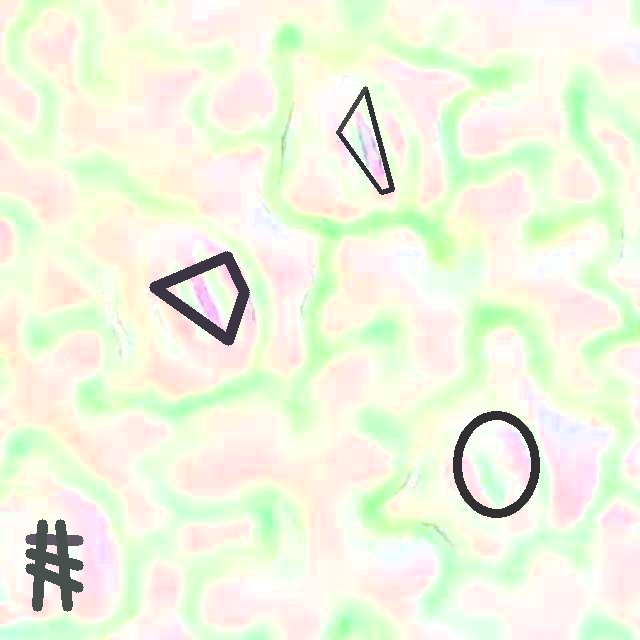close: (452, 409, 541, 519), (25, 520, 83, 610)
open: (150, 252, 249, 345), (337, 87, 393, 193)
